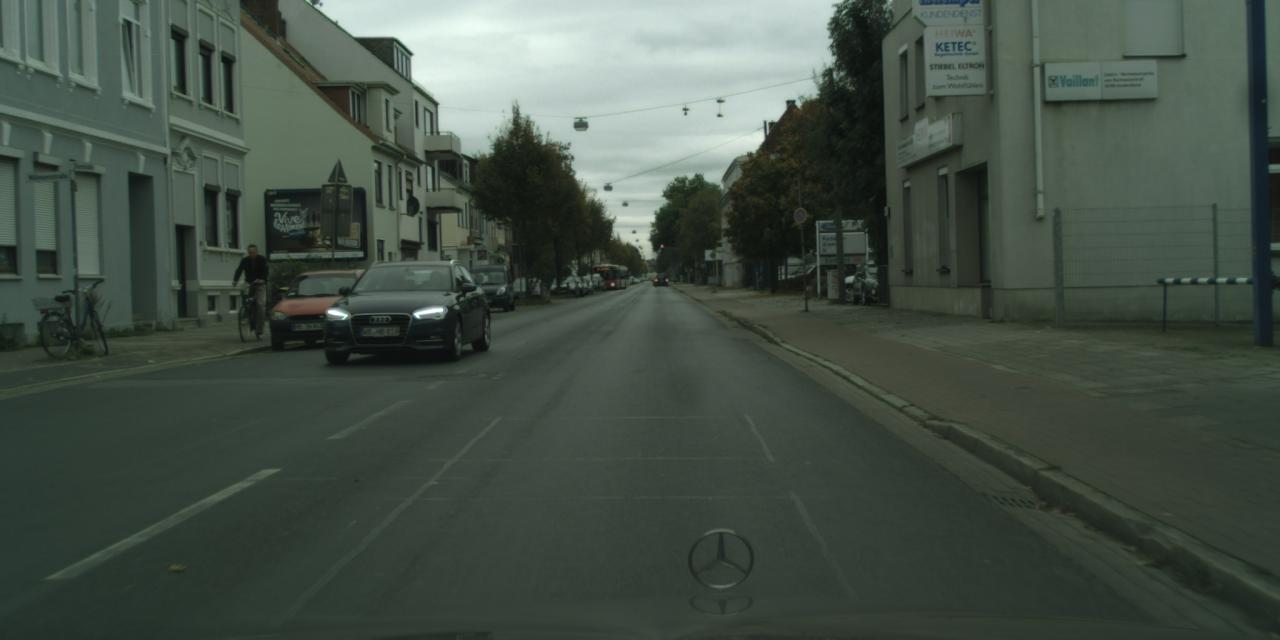ped: (239, 244, 268, 316)
